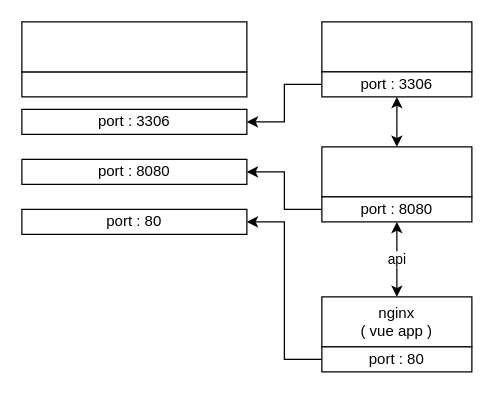
Some shapes in this 494 by 394 pixel diagram are drawn without their labels. The shapes that lost their labels are listed below. From the top down, each one's centre as x and y in pixels, then its label:
At pixel 134 46: "docker network bridge".
At pixel 396 46: "mysql".
At pixel 134 84: "vue_spring_boot_mysql_bridge".
At pixel 396 171: "spring-boot".
